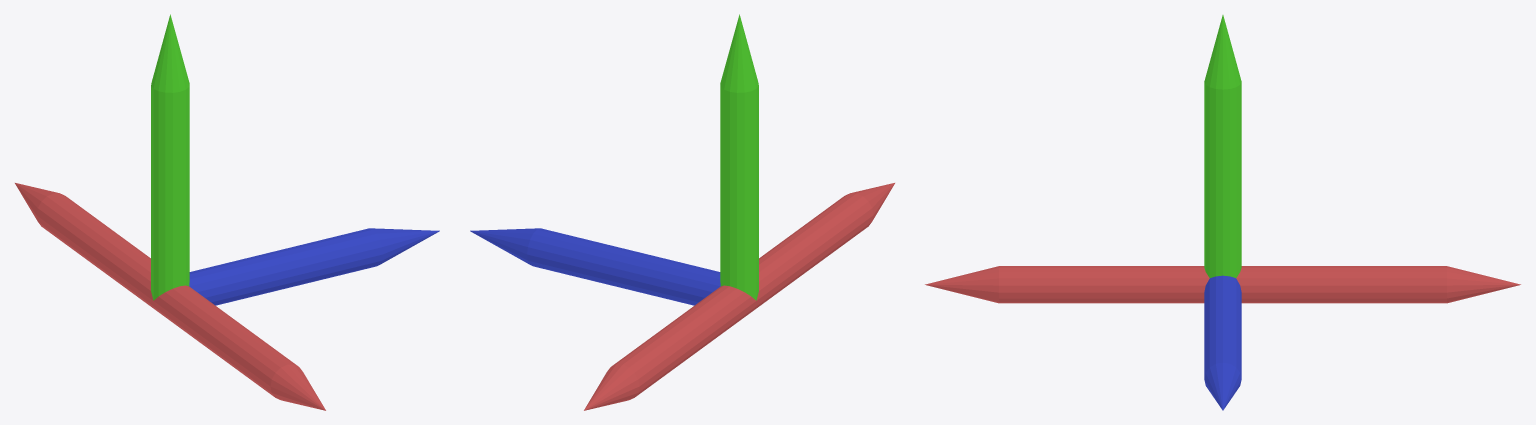
File: gizmo_translate.glb
3 renders of one model, left to right at view 1: azimuth 30°, elevation 25°; view 2: azimuth 150°, elevation 25°; view 3: azimuth 270°, elevation 25°, orthographic. The views are drawn at different scales.
Visible parts, largest first — view 1: GIZ_X_COL, GIZ_Y_COL, GIZ_Z_COL, GIZ_X_VIS, GIZ_Y_VIS, GIZ_Z_VIS; view 2: GIZ_X_COL, GIZ_Y_COL, GIZ_Z_COL, GIZ_X_VIS, GIZ_Y_VIS, GIZ_Z_VIS; view 3: GIZ_X_COL, GIZ_Y_COL, GIZ_Z_COL, GIZ_X_VIS, GIZ_Y_VIS, GIZ_Z_VIS.
Boxes of the visible parts, x1,y1,x2,y2 form: GIZ_X_COL: (36, 193, 297, 396); GIZ_Y_COL: (151, 85, 189, 300); GIZ_Z_COL: (189, 228, 382, 305); GIZ_X_VIS: (15, 183, 325, 410); GIZ_Y_VIS: (151, 14, 189, 92); GIZ_Z_VIS: (370, 228, 439, 264); GIZ_X_COL: (612, 193, 873, 396); GIZ_Y_COL: (720, 85, 758, 300); GIZ_Z_COL: (527, 228, 720, 305); GIZ_X_VIS: (584, 183, 894, 410); GIZ_Y_VIS: (720, 14, 758, 92); GIZ_Z_VIS: (470, 228, 539, 264); GIZ_X_COL: (999, 266, 1446, 303); GIZ_Y_COL: (1204, 82, 1241, 277); GIZ_Z_COL: (1204, 275, 1241, 378); GIZ_X_VIS: (925, 266, 1520, 303); GIZ_Y_VIS: (1204, 15, 1241, 89); GIZ_Z_VIS: (1204, 362, 1241, 410).
Bounding box in the file's own units: 1.06 × 1.06 × 2.
Materials: 1 (1 with a texture image).
